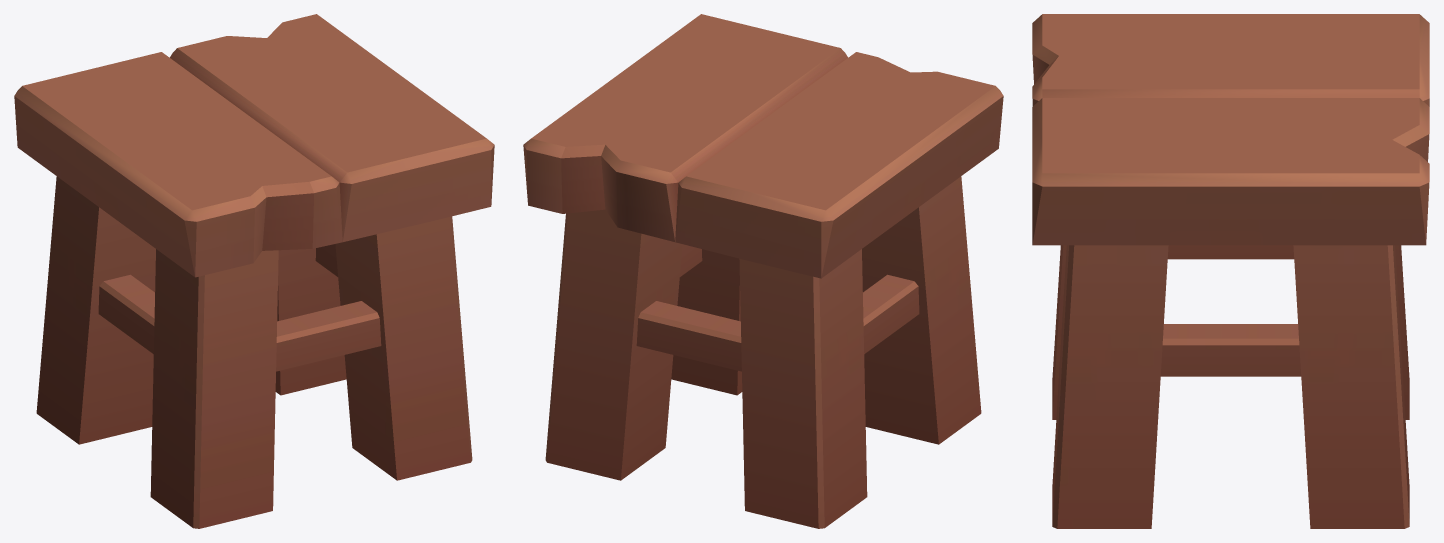
Rendered from table-small-gltf.glb.
3 views of the same model, side by side, from view 1: azimuth 30°, elevation 25°; view 2: azimuth 150°, elevation 25°; view 3: azimuth 270°, elevation 25° (orthographic). The views are drawn at different scales.
Parts seen in each view (by area): view 1: table_small; view 2: table_small; view 3: table_small.
Boxes of the visible parts, x1,y1,x2,y2 form: table_small: (14, 14, 494, 528); table_small: (523, 14, 1003, 528); table_small: (1032, 14, 1429, 528).
Size of the model in its own units: 1 by 1 by 1.
1 material, 1 textured.
